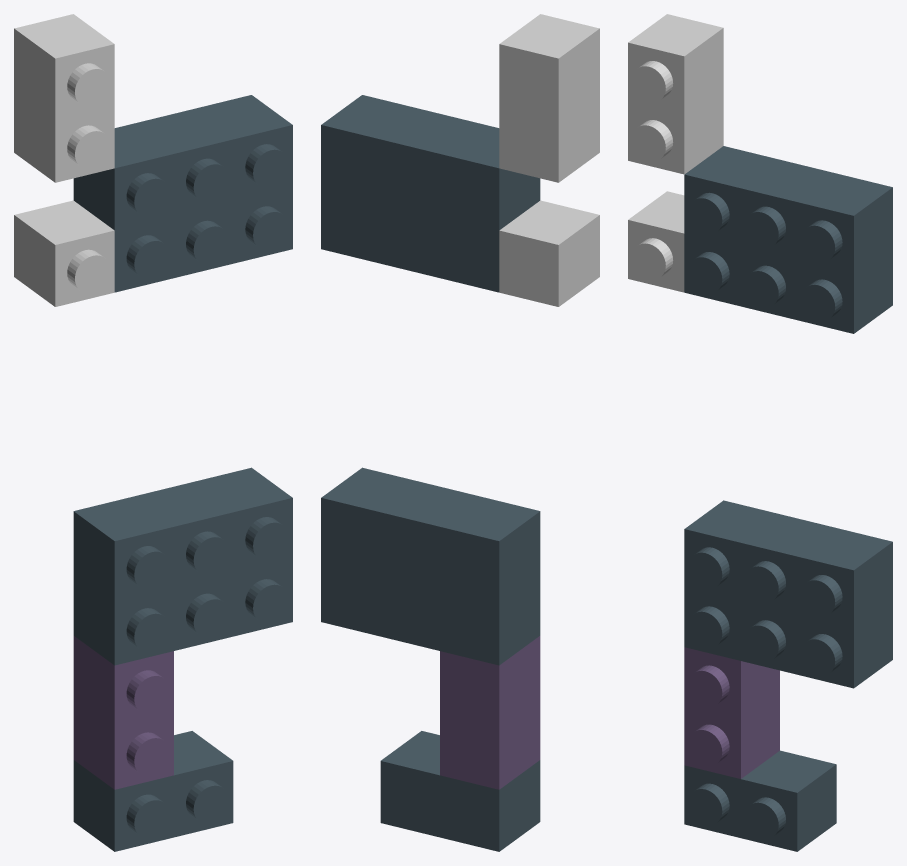
File: current.glb
3 renders of one model, left to right at view 1: azimuth 30°, elevation 25°; view 2: azimuth 150°, elevation 25°; view 3: azimuth 330°, elevation 25°, orthographic. The views are drawn at different scales.
Visible parts, largest first — view 1: world; view 2: world; view 3: world.
Part boxes in pixels (x1,y1,x2,y2): world: (14,14,292,851); world: (321,14,599,851); world: (628,14,892,851).
Bounding box in the file's own units: 32 × 104 × 11.4.
